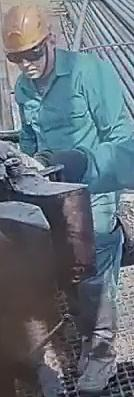gloves: (1, 141, 49, 184), (109, 192, 134, 250)
goggles: (3, 44, 46, 63)
helmet: (1, 4, 50, 53)
vest: (15, 52, 129, 142)
